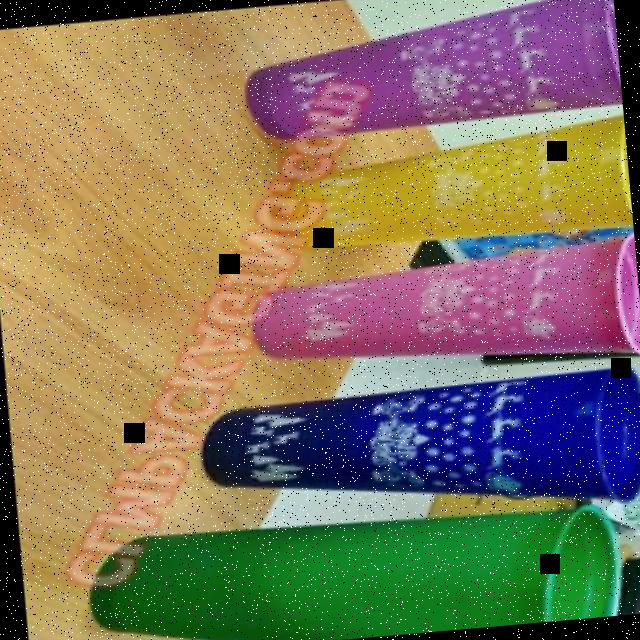plastic_cup: (78, 490, 627, 640), (194, 355, 640, 538), (240, 229, 640, 386), (276, 106, 632, 260), (236, 0, 621, 141)
